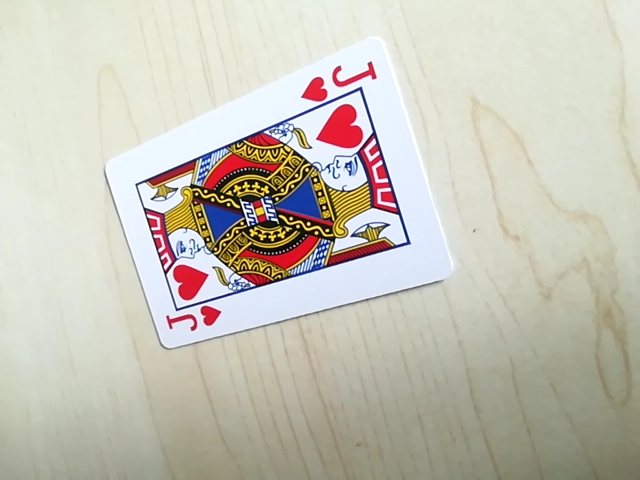hx j: (295, 54, 379, 105), (159, 301, 223, 342)
